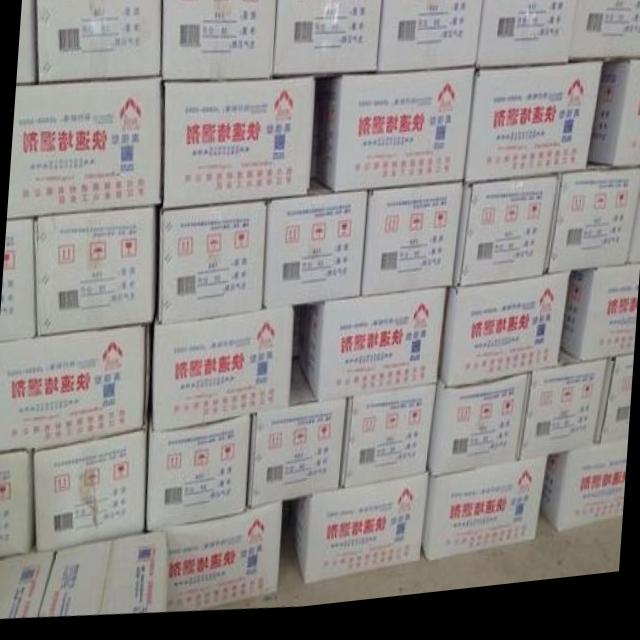box: (6, 80, 160, 220), (160, 84, 314, 212), (318, 78, 475, 198), (0, 330, 149, 451), (152, 314, 293, 436), (463, 77, 601, 193), (247, 363, 347, 515), (304, 297, 446, 404), (33, 212, 155, 336), (437, 287, 570, 397), (293, 481, 427, 589), (31, 434, 146, 553), (156, 208, 267, 327), (422, 469, 547, 570), (164, 509, 281, 616), (264, 198, 366, 314), (145, 421, 249, 532), (361, 191, 463, 304), (454, 188, 558, 296), (35, 0, 160, 84), (338, 395, 437, 496), (519, 357, 606, 471), (161, 0, 277, 85), (428, 388, 528, 486), (545, 184, 640, 287), (272, 0, 383, 83), (377, 0, 484, 80), (475, 0, 578, 80), (539, 457, 627, 545), (561, 279, 640, 374), (97, 532, 166, 617), (38, 541, 111, 618), (566, 0, 640, 75), (588, 74, 640, 180), (0, 219, 35, 339), (0, 552, 54, 618), (0, 448, 31, 555), (594, 371, 632, 456), (16, 0, 36, 83), (626, 210, 640, 281)
